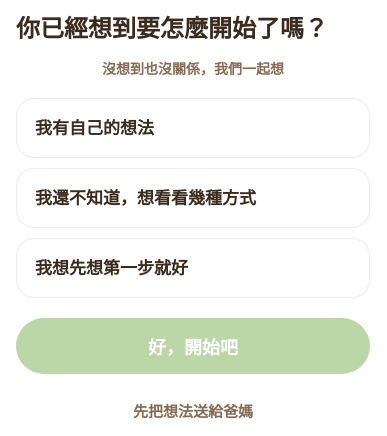
Test: Case 6｜AI 掛掉，孩子不會被困住 › 逾時後三條路都在
The width and height of the screenshot is (387, 436).
Click the radio button with test id "planning-opening-want_options". click: [193, 198]
box: [16,168,370,228]
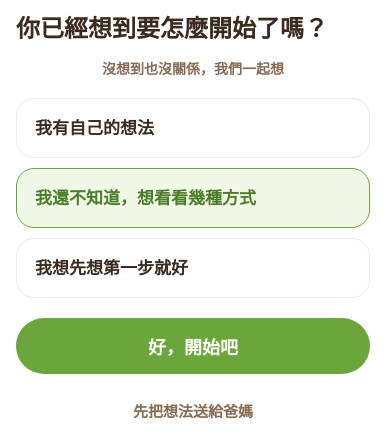
Click the button with test id "planning-opening-next". click: [193, 346]
box: [16,318,370,374]
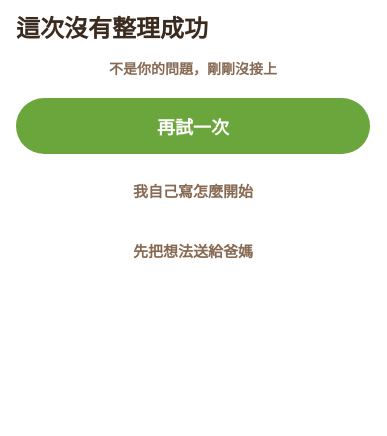
Expected: the element with test id "planning-unavailable" is shown, [16,14,370,274]
Expected: the button with test id "planning-retry" is shown, [16,98,370,154]
Expected: the button with test id "planning-write-own-entry" is shown, [16,166,370,214]
